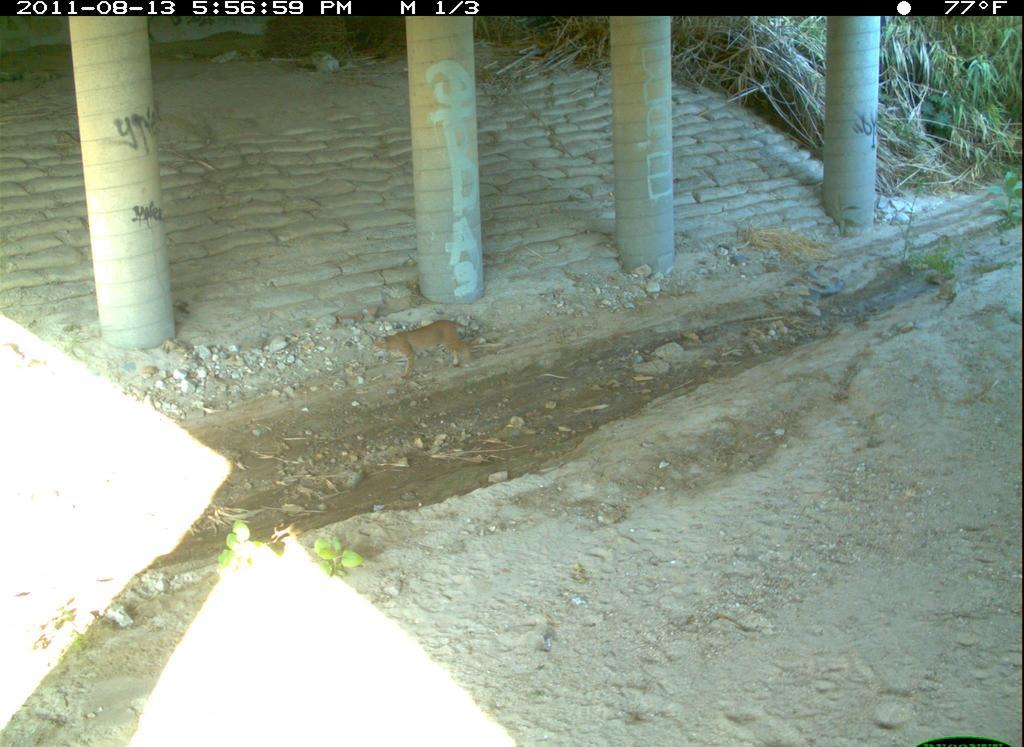bobcat: (732, 623, 960, 747)
